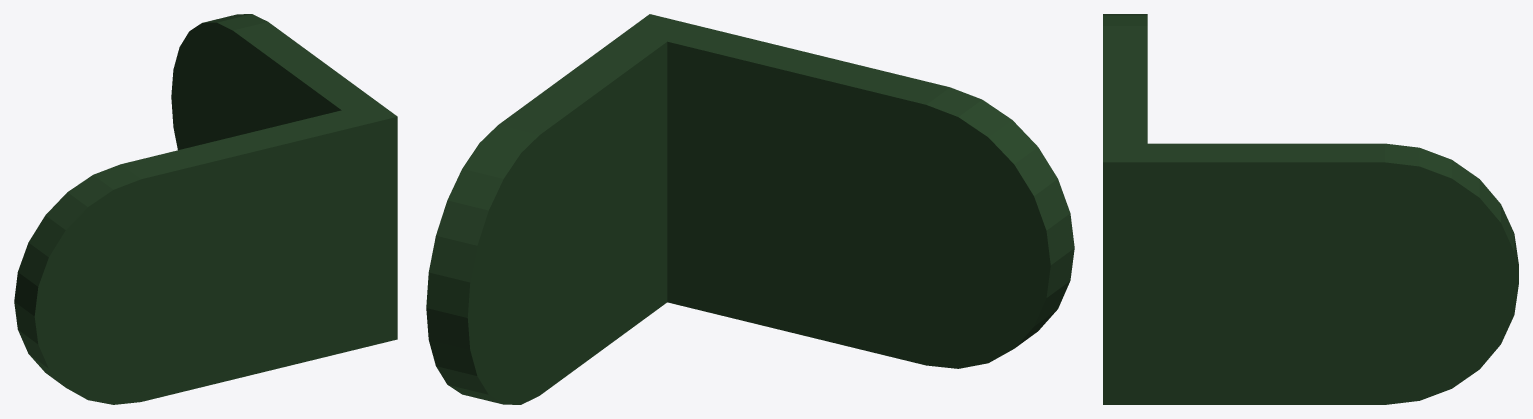
Rendered from ant_neck_vis_1.dae.
3 renders of one model, left to right at view 1: azimuth 30°, elevation 25°; view 2: azimuth 150°, elevation 25°; view 3: azimuth 270°, elevation 25°, orthographic. The views are drawn at different scales.
Visible parts, largest first — view 1: node; view 2: node; view 3: node.
Part boxes in pixels (bbox=[...]): node: bbox=[14, 14, 397, 404]; node: bbox=[426, 14, 1074, 404]; node: bbox=[1103, 14, 1518, 404].
Bounding box in the file's own units: 0.0307 × 0.018 × 0.028.
